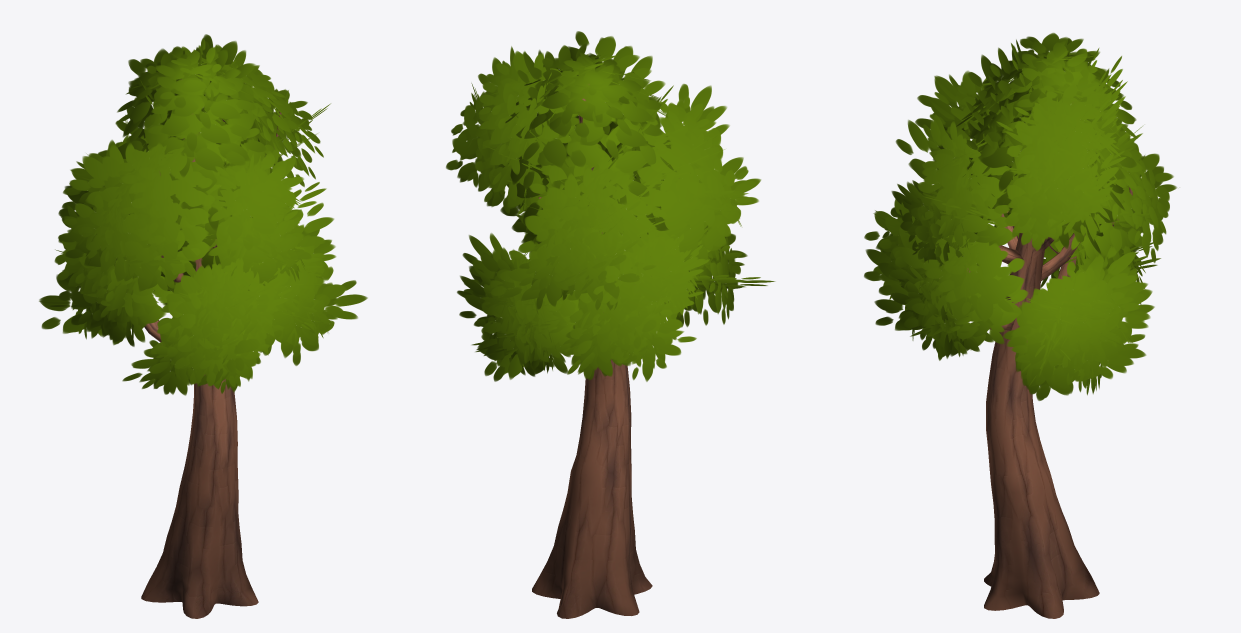
Rendered from tree_a.glb.
3 renders of one model, left to right at view 1: azimuth 30°, elevation 25°; view 2: azimuth 150°, elevation 25°; view 3: azimuth 270°, elevation 25°, orthographic. The views are drawn at different scales.
Parts seen in each view (by area): view 1: CommonTree_1; view 2: CommonTree_1; view 3: CommonTree_1.
Part boxes in pixels (left/top/right/bottom): CommonTree_1: left=39, top=34, right=367, bottom=618; CommonTree_1: left=446, top=31, right=775, bottom=618; CommonTree_1: left=864, top=33, right=1176, bottom=618.
Bounding box in the file's own units: 4.31 × 7.26 × 4.58.
2 materials, 2 textured.
